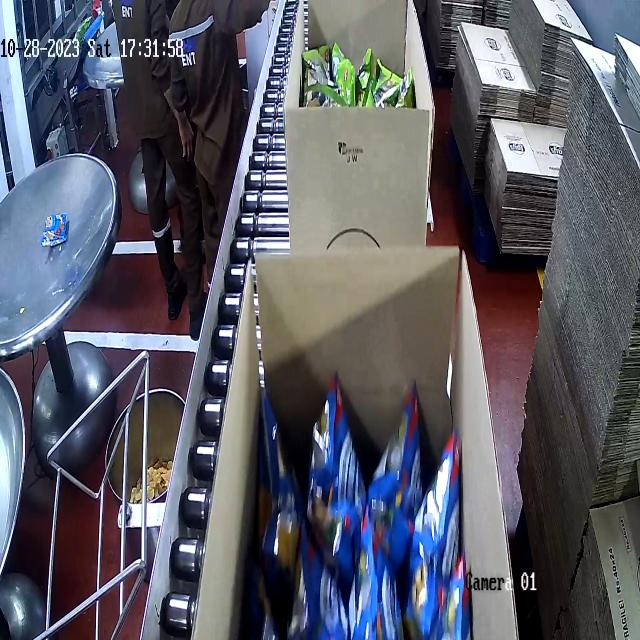PAPRIKA: (257, 391, 465, 640)
